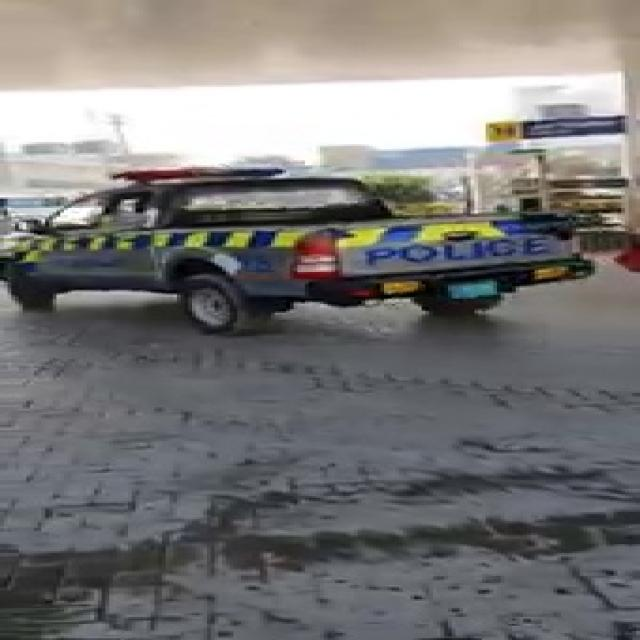police: (35, 161, 553, 332)
